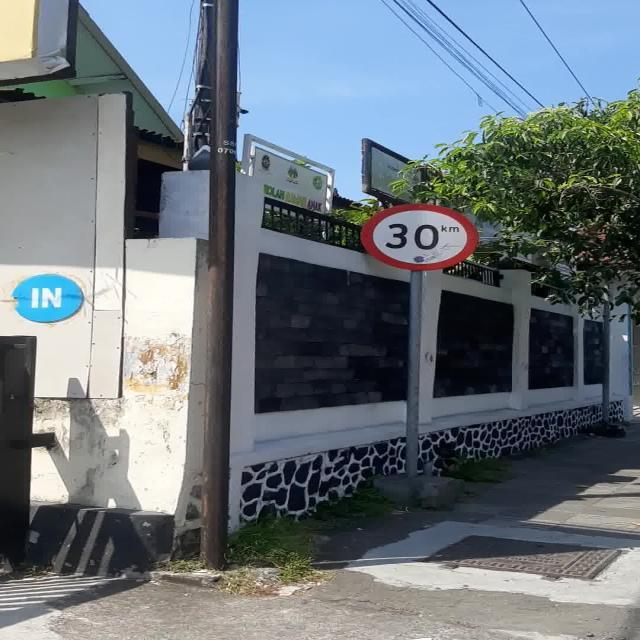Kecepatan Maks. 30 km: (358, 203, 479, 271)
